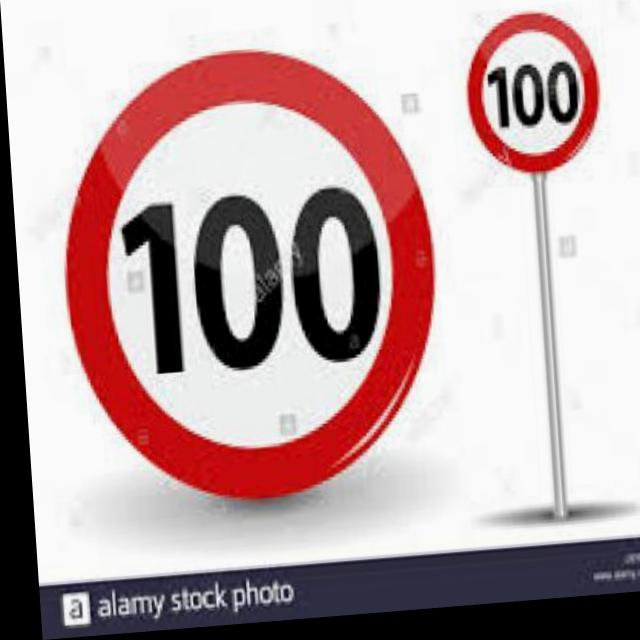limit100: (38, 31, 451, 527), (453, 12, 612, 195)
